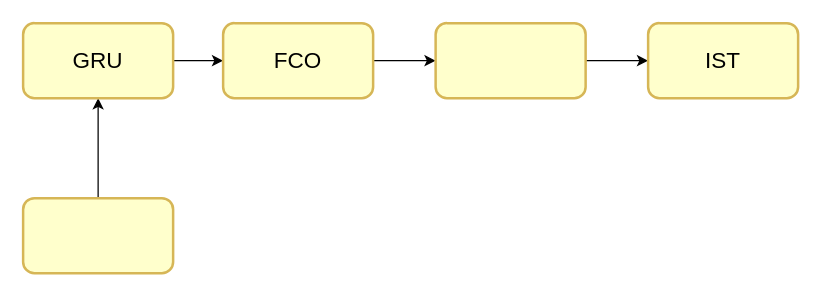
Image size: 820x295. Some labels were removed from this diagram. The shapes that lost their labels are listed below. From the top down, each one's centre as x and y in pixels, then its label:
At (x=510, y=60): "ATH".
At (x=97, y=235): "SCL".
